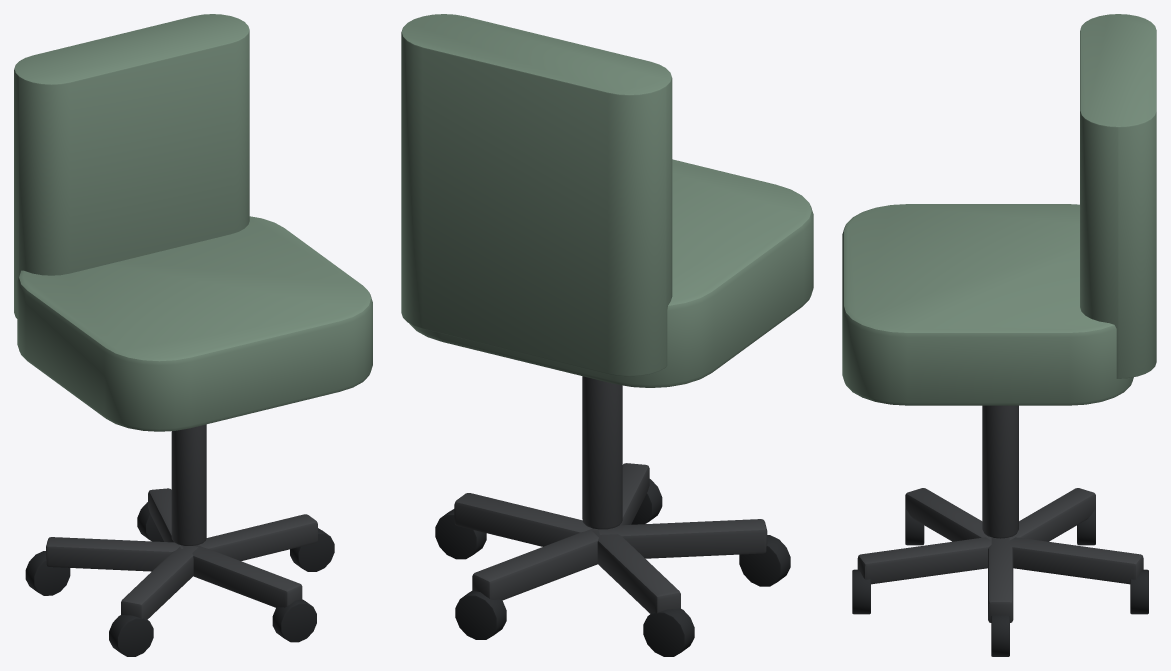
File: office_chair_municipal.glb
3 views of the same model, side by side, from view 1: azimuth 30°, elevation 25°; view 2: azimuth 150°, elevation 25°; view 3: azimuth 270°, elevation 25° (orthographic). The views are drawn at different scales.
Visible parts, largest first — view 1: OfficeChair_Seat, OfficeChair_Back, OfficeChair_GasLift, OfficeChair_BaseArm_3, OfficeChair_BaseArm_5, OfficeChair_BaseArm_1, OfficeChair_BaseArm_4, OfficeChair_Caster_4, OfficeChair_Caster_5, OfficeChair_Caster_3, OfficeChair_Caster_1, OfficeChair_BaseArm_2 (+1 smaller); view 2: OfficeChair_Back, OfficeChair_Seat, OfficeChair_GasLift, OfficeChair_BaseArm_4, OfficeChair_BaseArm_2, OfficeChair_BaseArm_1, OfficeChair_BaseArm_3, OfficeChair_Caster_3, OfficeChair_Caster_2, OfficeChair_Caster_4, OfficeChair_Caster_1, OfficeChair_BaseArm_5 (+1 smaller); view 3: OfficeChair_Seat, OfficeChair_Back, OfficeChair_GasLift, OfficeChair_BaseArm_2, OfficeChair_BaseArm_5, OfficeChair_BaseArm_4, OfficeChair_BaseArm_3, OfficeChair_BaseArm_1, OfficeChair_Caster_1, OfficeChair_Caster_5, OfficeChair_Caster_2, OfficeChair_Caster_4 (+1 smaller).
Boxes of the visible parts, <box> form: OfficeChair_Seat: <box>17,216,372,431</box>; OfficeChair_Back: <box>14,14,249,318</box>; OfficeChair_GasLift: <box>171,424,206,545</box>; OfficeChair_BaseArm_3: <box>46,537,179,571</box>; OfficeChair_BaseArm_5: <box>192,545,302,607</box>; OfficeChair_BaseArm_1: <box>198,514,317,561</box>; OfficeChair_BaseArm_4: <box>121,545,198,619</box>; OfficeChair_Caster_4: <box>109,614,153,656</box>; OfficeChair_Caster_5: <box>272,599,316,642</box>; OfficeChair_Caster_3: <box>25,551,70,595</box>; OfficeChair_Caster_1: <box>290,528,334,571</box>; OfficeChair_BaseArm_2: <box>148,488,183,548</box>; OfficeChair_Back: <box>401,14,672,376</box>; OfficeChair_Seat: <box>409,159,813,387</box>; OfficeChair_GasLift: <box>582,376,622,529</box>; OfficeChair_BaseArm_4: <box>598,519,767,558</box>; OfficeChair_BaseArm_2: <box>472,528,598,600</box>; OfficeChair_BaseArm_1: <box>454,493,592,546</box>; OfficeChair_BaseArm_3: <box>592,530,680,617</box>; OfficeChair_Caster_3: <box>643,608,694,656</box>; OfficeChair_Caster_2: <box>455,590,506,639</box>; OfficeChair_Caster_4: <box>739,535,790,586</box>; OfficeChair_Caster_1: <box>435,509,486,559</box>; OfficeChair_BaseArm_5: <box>620,463,649,525</box>; OfficeChair_Seat: <box>842,204,1133,405</box>; OfficeChair_Back: <box>1080,14,1156,378</box>; OfficeChair_GasLift: <box>982,405,1018,538</box>; OfficeChair_BaseArm_2: <box>1009,537,1143,584</box>; OfficeChair_BaseArm_5: <box>857,537,991,584</box>; OfficeChair_BaseArm_4: <box>905,488,992,541</box>; OfficeChair_BaseArm_3: <box>1008,488,1095,541</box>; OfficeChair_BaseArm_1: <box>988,538,1013,622</box>; OfficeChair_Caster_1: <box>991,615,1009,656</box>; OfficeChair_Caster_5: <box>852,569,870,614</box>; OfficeChair_Caster_2: <box>1130,569,1148,614</box>; OfficeChair_Caster_4: <box>905,508,924,545</box>.
Size of what is drawn, in the model's own units: 0.4443 by 0.7958 by 0.4336.
